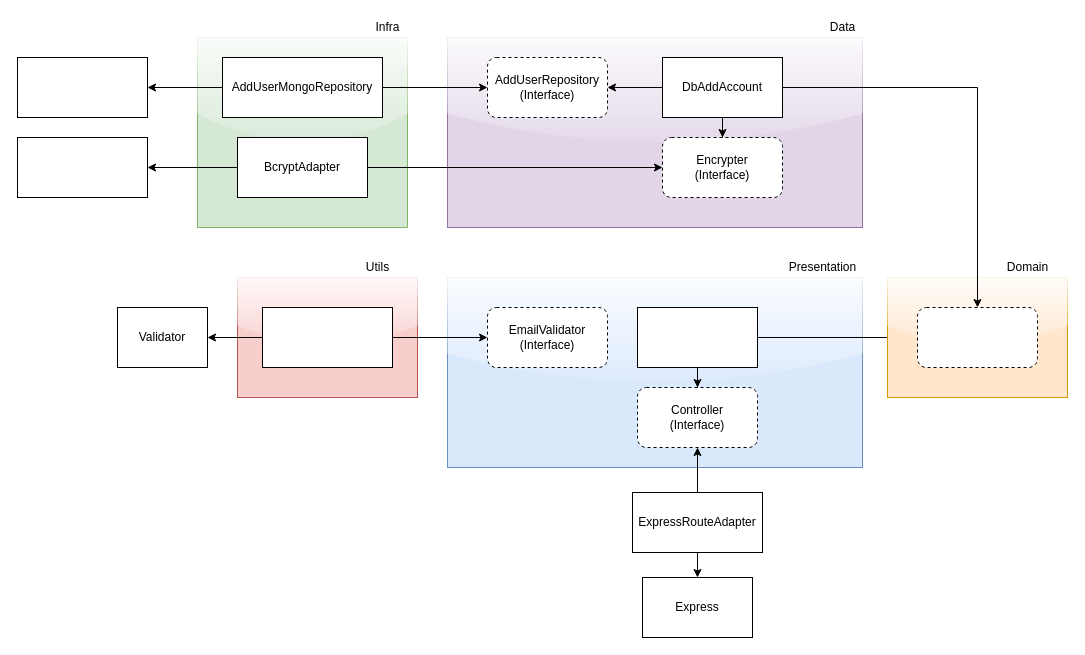
Image size: 1085x655. Some labels were removed from this diagram. The shapes that lost their labels are listed below. From the top down, each one's box as (x1, y1, x2, y2) in pixels, then its label:
(16, 56, 148, 118): MongoDb
(16, 136, 148, 198): Bcrypt
(262, 306, 392, 368): EmailValidatorAdapter
(636, 306, 758, 368): SignUpController
(916, 306, 1038, 368): AddAccount (Interface)
